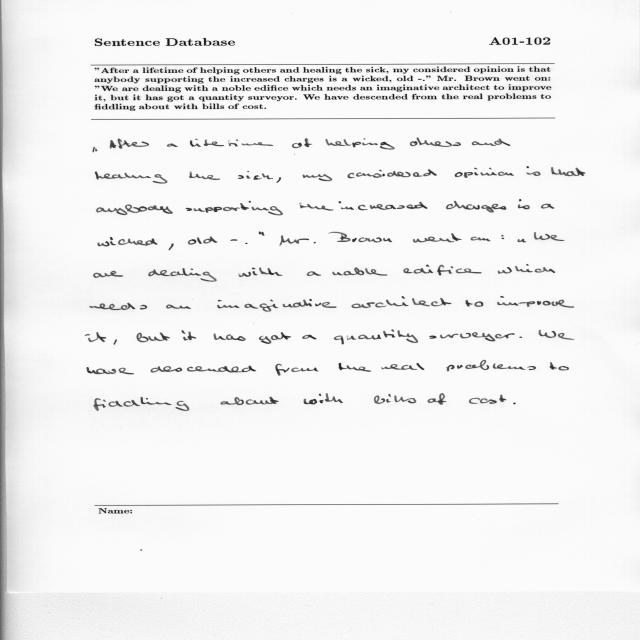word: (217, 299, 337, 312), (185, 201, 283, 215), (94, 397, 189, 411), (334, 330, 418, 345), (352, 296, 452, 308), (446, 360, 536, 372), (148, 268, 217, 282), (497, 296, 574, 308), (95, 172, 168, 184), (404, 265, 482, 276), (97, 205, 173, 216), (347, 169, 437, 178), (339, 201, 428, 210), (429, 332, 515, 341), (325, 139, 395, 150), (151, 366, 256, 373), (446, 201, 506, 213), (190, 139, 273, 147), (328, 232, 392, 242), (455, 168, 514, 178), (498, 264, 555, 274), (98, 237, 157, 246), (275, 364, 319, 376), (410, 137, 461, 147), (333, 267, 388, 276), (413, 233, 461, 243), (221, 397, 279, 405), (239, 267, 283, 277), (110, 138, 149, 149), (304, 394, 343, 405), (374, 394, 416, 404), (90, 303, 147, 310), (280, 235, 316, 246), (259, 332, 291, 344), (539, 330, 575, 340), (136, 333, 170, 343), (469, 395, 506, 404), (87, 367, 134, 374), (238, 171, 273, 180), (551, 167, 585, 176), (382, 363, 425, 370), (338, 363, 371, 372), (189, 171, 220, 180), (300, 203, 334, 211), (188, 236, 218, 245), (534, 232, 564, 241), (472, 139, 510, 146), (213, 333, 246, 341), (428, 393, 447, 405), (303, 174, 332, 181), (94, 271, 123, 278), (292, 138, 312, 148), (86, 332, 106, 342), (550, 362, 569, 371), (182, 330, 196, 341), (526, 166, 541, 176), (466, 300, 484, 307), (166, 304, 191, 309), (518, 200, 530, 210), (471, 237, 491, 241), (307, 271, 321, 276), (541, 204, 554, 209), (302, 335, 317, 339), (167, 143, 178, 147), (518, 239, 527, 243), (169, 244, 174, 251), (93, 147, 98, 152), (277, 177, 281, 183), (259, 232, 265, 236), (114, 340, 117, 345), (231, 239, 238, 241), (502, 235, 505, 239), (519, 336, 522, 338), (513, 403, 516, 405), (245, 243, 248, 244)
